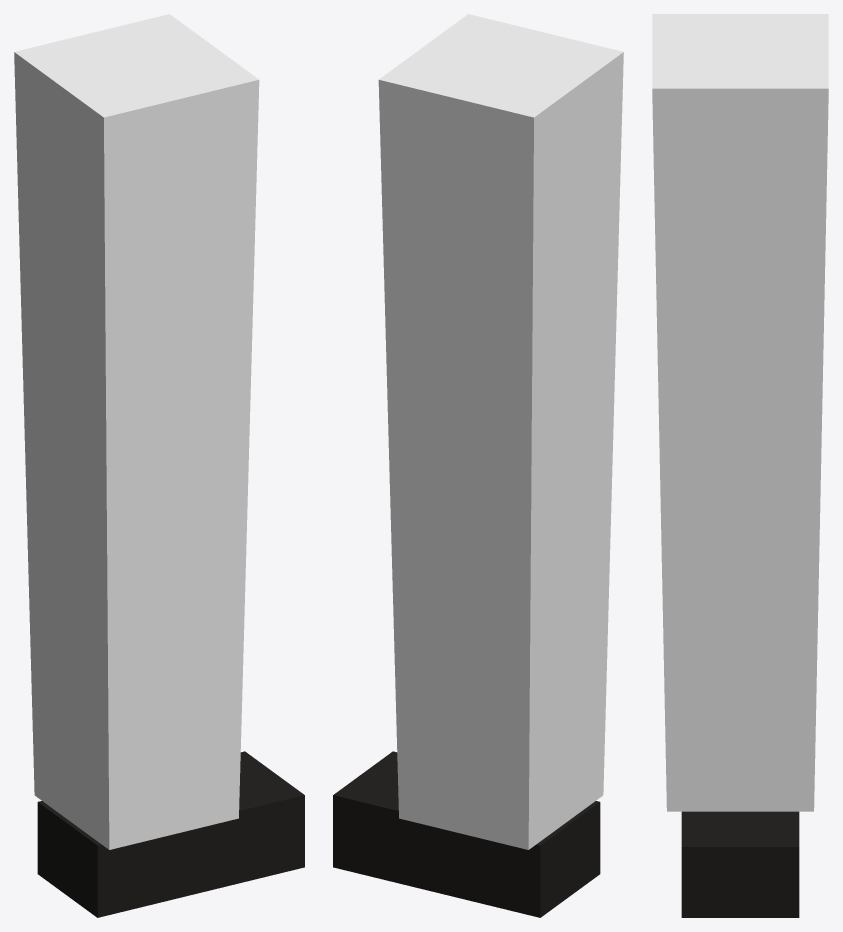
The model's file is leg.obj.
The picture shows the model from 3 angles, left to right: view 1: azimuth 30°, elevation 25°; view 2: azimuth 150°, elevation 25°; view 3: azimuth 270°, elevation 25°; orthographic projection.
Visible parts, largest first — view 1: leg_TrousersPaint, leg_Shoes; view 2: leg_TrousersPaint, leg_Shoes; view 3: leg_TrousersPaint, leg_Shoes.
Part boxes in pixels (x1,y1,x2,y2): leg_TrousersPaint: (14,14,259,849); leg_Shoes: (37,751,304,917); leg_TrousersPaint: (378,14,623,849); leg_Shoes: (333,751,600,917); leg_TrousersPaint: (652,14,828,811); leg_Shoes: (681,811,799,917).
Bounding box in the file's own units: 0.25 × 0.9 × 0.18.
Materials: 2 (2 with a texture image).
